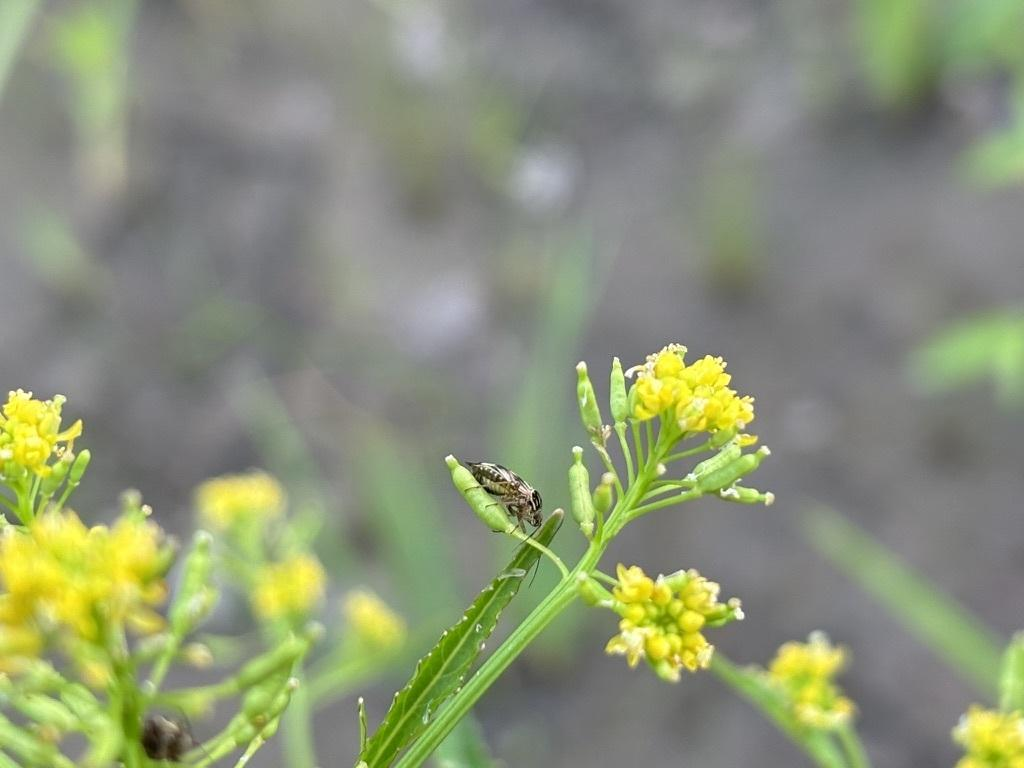plant_bugs: (449, 440, 566, 554)
